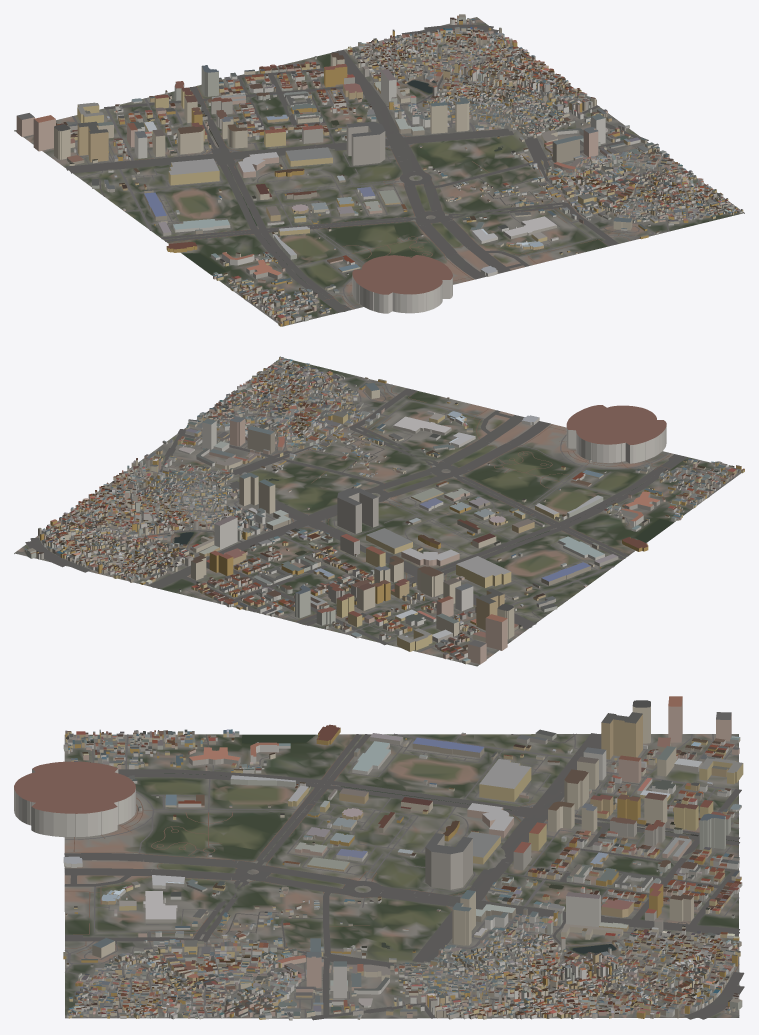
3 renders of one model, top to bottom at view 1: azimuth 30°, elevation 25°; view 2: azimuth 150°, elevation 25°; view 3: azimuth 270°, elevation 25°, orthographic. The views are drawn at different scales.
Visible parts, largest first — view 1: buildings, ground, roads, water; view 2: buildings, ground, roads, water; view 3: buildings, ground, roads, water.
Boxes of the visible parts, bbox=[...] form: buildings: bbox=[16, 14, 743, 326]; ground: bbox=[14, 17, 744, 326]; roads: bbox=[24, 17, 735, 326]; water: bbox=[182, 80, 628, 282]; buildings: bbox=[24, 356, 744, 664]; ground: bbox=[14, 358, 741, 666]; roads: bbox=[17, 363, 740, 661]; water: bbox=[168, 437, 673, 624]; buildings: bbox=[14, 696, 743, 1020]; ground: bbox=[64, 734, 739, 1018]; roads: bbox=[64, 733, 744, 1020]; water: bbox=[164, 734, 738, 1012].
Bounding box in the file's own units: 1437 × 88.05 × 1520.
